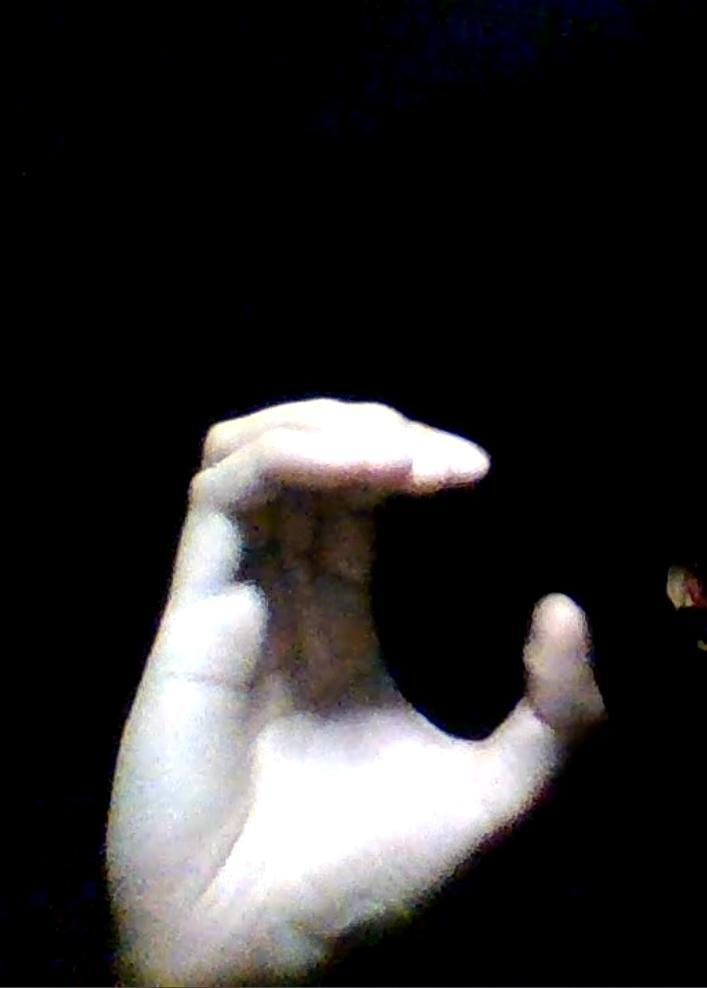c: (103, 393, 610, 988)
